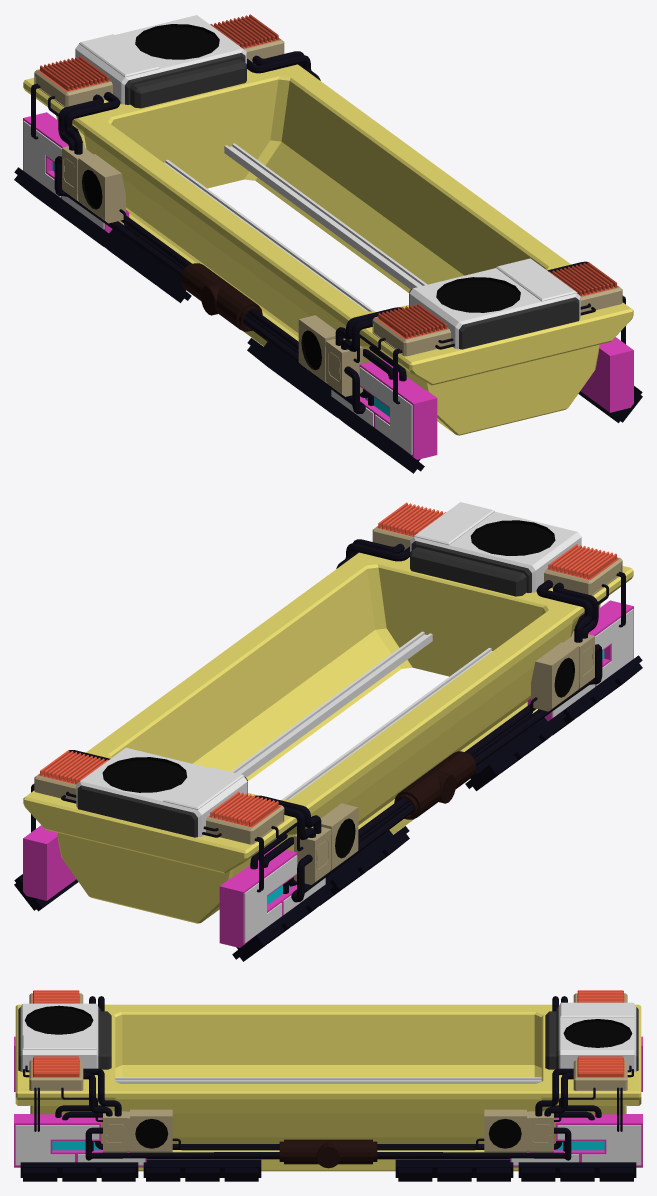
Rendered from WellCar.fbx.
The picture shows the model from 3 angles, top to bottom: view 1: azimuth 30°, elevation 25°; view 2: azimuth 150°, elevation 25°; view 3: azimuth 270°, elevation 25°; orthographic projection. The views are drawn at different scales.
Parts seen in each view (by area): view 1: WellCar, Greebling, CoolingUnit.001, CoolingUnit, IBeam, IBeam001; view 2: WellCar, Greebling, CoolingUnit, CoolingUnit.001, IBeam, IBeam001; view 3: WellCar, Greebling, CoolingUnit.001, CoolingUnit, IBeam001.
Part boxes in pixels (x1=…): WellCar: x1=23, y1=64, x2=633, y2=435; Greebling: x1=14, y1=14, x2=642, y2=473; CoolingUnit.001: x1=75, y1=15, x2=246, y2=108; CoolingUnit: x1=409, y1=258, x2=580, y2=349; IBeam: x1=224, y1=143, x2=427, y2=289; IBeam001: x1=164, y1=159, x2=375, y2=312; WellCar: x1=23, y1=552, x2=633, y2=923; Greebling: x1=14, y1=502, x2=642, y2=961; CoolingUnit: x1=410, y1=502, x2=581, y2=596; CoolingUnit.001: x1=76, y1=747, x2=247, y2=837; IBeam: x1=231, y1=631, x2=432, y2=777; IBeam001: x1=281, y1=648, x2=492, y2=800; WellCar: x1=15, y1=1004, x2=641, y2=1171; Greebling: x1=14, y1=990, x2=642, y2=1181; CoolingUnit.001: x1=545, y1=1002, x2=638, y2=1072; CoolingUnit: x1=18, y1=1003, x2=111, y2=1072; IBeam001: x1=115, y1=1077, x2=541, y2=1083.
Size of the model in its own units: 564 by 305 by 1509.
